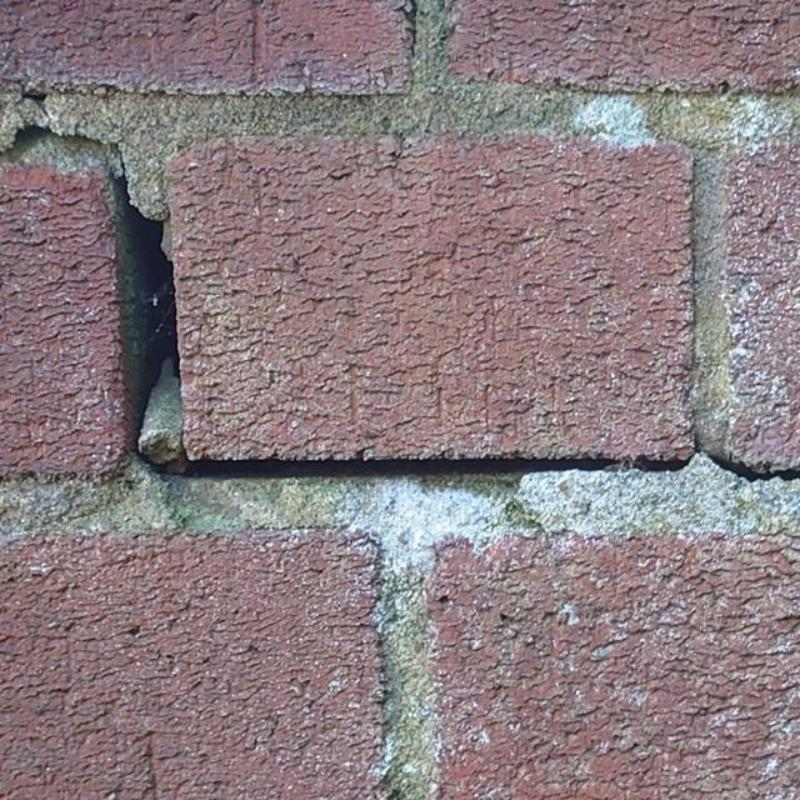crack: (111, 142, 180, 466), (152, 456, 688, 477), (0, 127, 101, 156), (712, 457, 799, 480), (15, 94, 50, 118)
